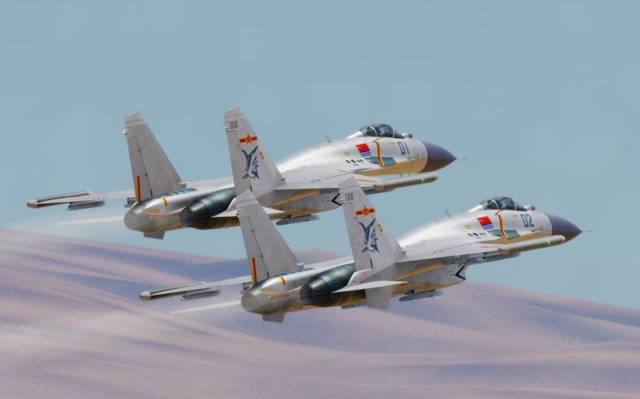airplane: (136, 180, 589, 322), (25, 105, 459, 242)
